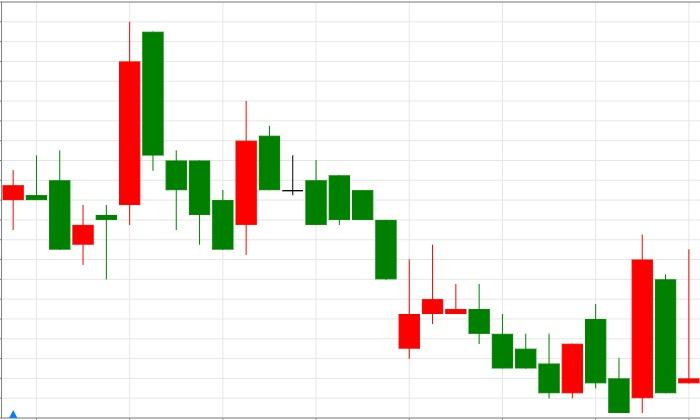bullish_engulfing_rise: (142, 31, 257, 256)
inverse_hammer_rise: (259, 126, 421, 358)
